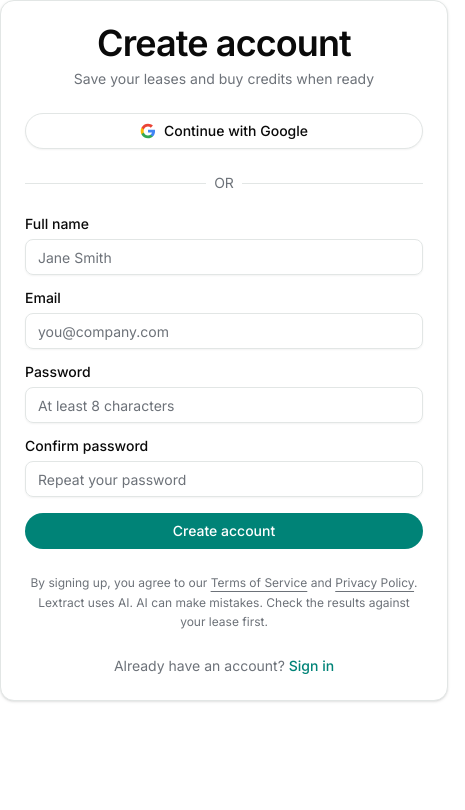
Test: SignupForm › shows validation errors for empty fields
What coordinates should you click on to do the following:
click the button "Create account"
I would click on:
 (224, 531)
Its box is [25,513,423,549].
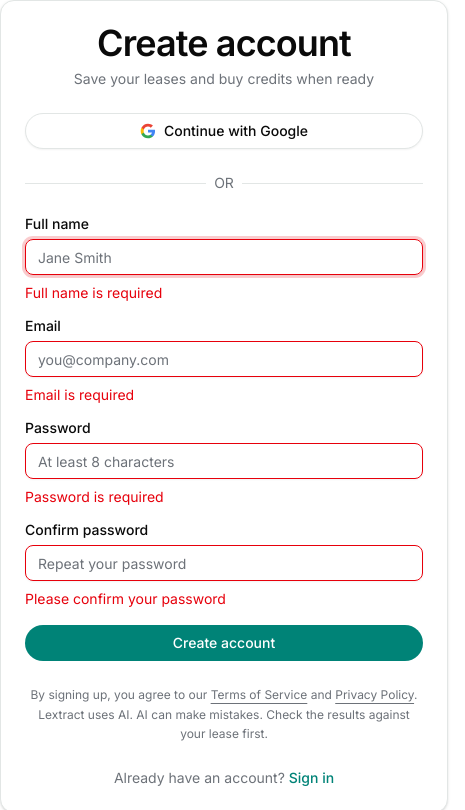
Check: the text "Full name is required" is shown, box [25,284,162,301]
Check: the text "Email is required" is shown, box [25,386,134,403]
Check: the text "Password is required" is shown, box [25,488,164,505]
